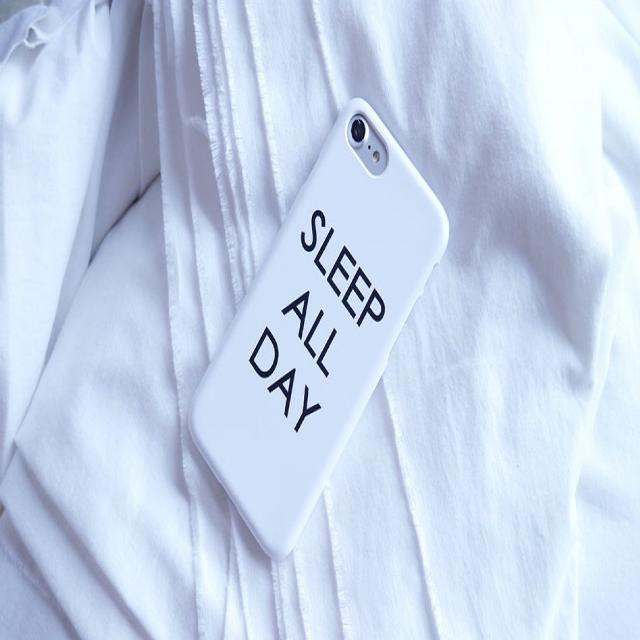phone: (187, 94, 450, 559)
